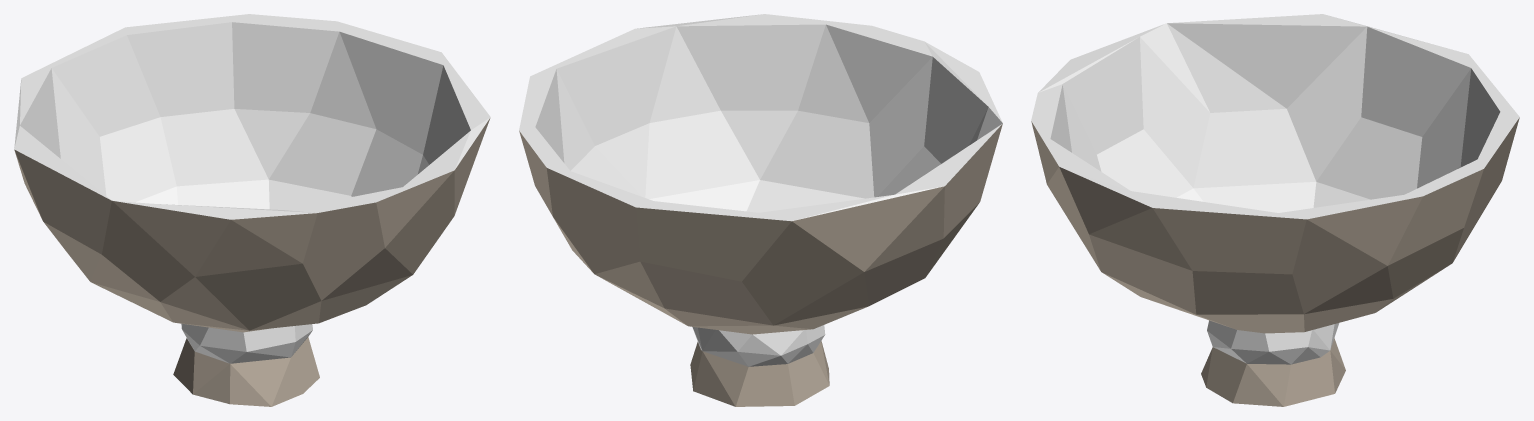
File: BowlWhite.fbx
3 renders of one model, left to right at view 1: azimuth 30°, elevation 25°; view 2: azimuth 150°, elevation 25°; view 3: azimuth 270°, elevation 25°, orthographic.
Visible parts, largest first — view 1: BowlLowPolyWhite; view 2: BowlLowPolyWhite; view 3: BowlLowPolyWhite.
Boxes of the visible parts, box(x1,y1,x2,y2) form: BowlLowPolyWhite: box(14, 14, 490, 406); BowlLowPolyWhite: box(519, 14, 1002, 406); BowlLowPolyWhite: box(1031, 14, 1519, 406).
Bounding box in the file's own units: 14.8 × 9.01 × 14.83.
